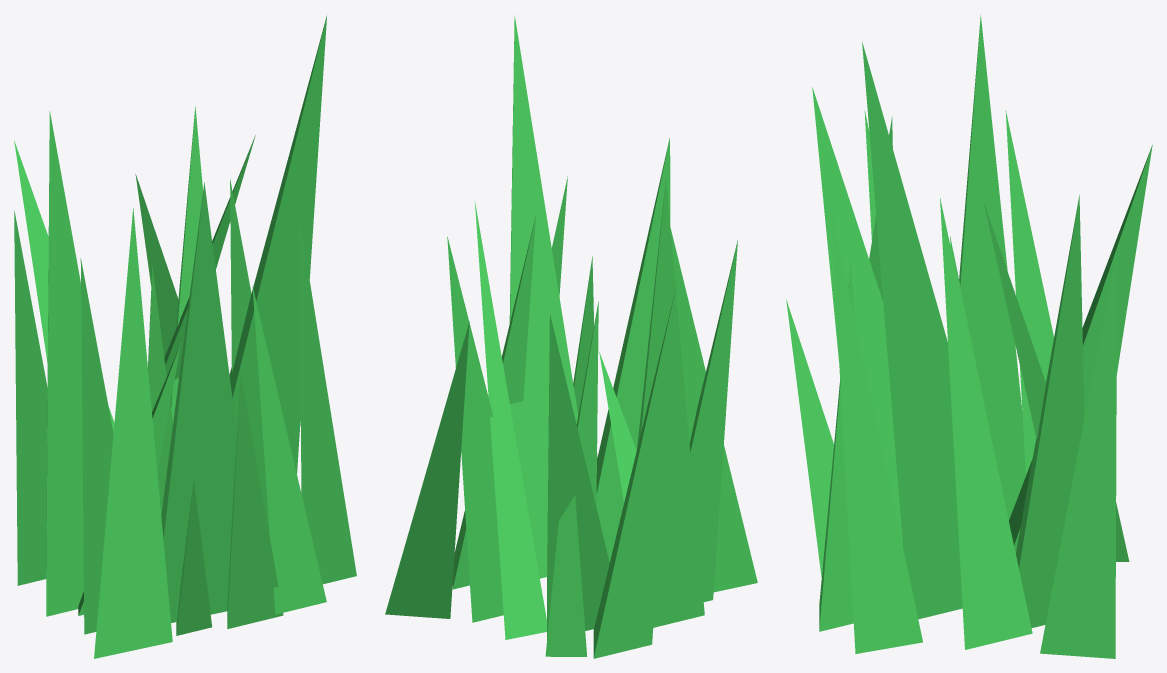
File: grass_final.fbx
3 renders of one model, left to right at view 1: azimuth 30°, elevation 25°; view 2: azimuth 150°, elevation 25°; view 3: azimuth 270°, elevation 25°, orthographic. The views are drawn at different scales.
Visible parts, largest first — view 1: Cone.006, Cone.012, Cone.005, Cone, Cone.010, Cone.011, Cone.014, Cone.003, Cone.004, Cone.017, Cone.007, Cone.002 (+5 smaller); view 2: Cone.005, Cone.011, Cone, Cone.015, Cone.001, Cone.007, Cone.002, Cone.006, Cone.004, Cone.012, Cone.016, Cone.008 (+4 smaller); view 3: Cone.005, Cone.008, Cone.015, Cone.010, Cone, Cone.007, Cone.006, Cone.011, Cone.002, Cone.014, Cone.003, Cone.001 (+2 smaller).
Boxes of the visible parts, <box> form: Cone.006: <box>161,182,236,622</box>; Cone.012: <box>94,208,172,658</box>; Cone.005: <box>229,14,327,537</box>; Cone: <box>46,111,83,616</box>; Cone.010: <box>298,212,356,584</box>; Cone.011: <box>14,210,47,585</box>; Cone.014: <box>252,285,326,614</box>; Cone.003: <box>227,374,283,628</box>; Cone.004: <box>80,258,113,634</box>; Cone.017: <box>176,480,212,635</box>; Cone.007: <box>171,106,202,423</box>; Cone.002: <box>14,140,114,432</box>; Cone.005: <box>509,15,578,578</box>; Cone.011: <box>593,284,676,658</box>; Cone: <box>637,179,704,627</box>; Cone.015: <box>385,321,469,618</box>; Cone.001: <box>474,200,546,639</box>; Cone.007: <box>447,236,503,622</box>; Cone.002: <box>547,314,609,639</box>; Cone.006: <box>596,137,670,562</box>; Cone.004: <box>689,240,737,601</box>; Cone.012: <box>670,229,757,592</box>; Cone.016: <box>545,495,586,656</box>; Cone.008: <box>452,214,536,589</box>; Cone.005: <box>862,41,962,619</box>; Cone.008: <box>940,198,1032,649</box>; Cone.015: <box>1040,247,1117,658</box>; Cone.010: <box>830,206,922,653</box>; Cone: <box>959,14,1025,520</box>; Cone.007: <box>1016,194,1084,627</box>; Cone.006: <box>812,87,903,547</box>; Cone.011: <box>1005,110,1053,475</box>; Cone.002: <box>1009,145,1152,553</box>; Cone.014: <box>819,263,854,631</box>; Cone.003: <box>786,300,833,579</box>; Cone.001: <box>983,201,1046,440</box>.
Bounding box in the file's own units: 196 × 393 × 213.
